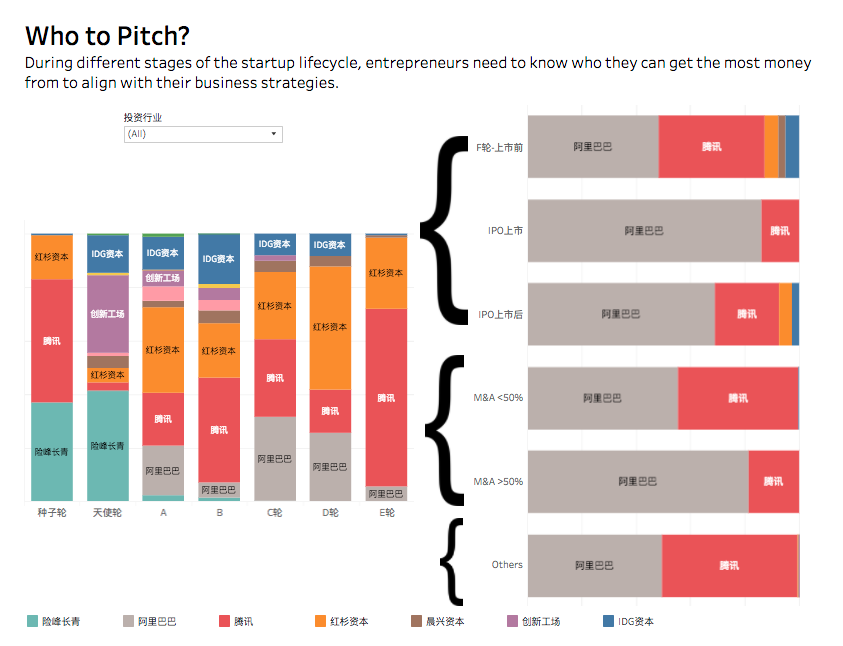

This screenshot's page, from the dashboard's own definition file:
{"tool":"tableau","page":{"name":"Who to go","canvas":[1000,800],"ordinal":6},"visuals":[{"type":"text","box":[0,0,1000,122]},{"type":"blank","box":[0,122,500.5,144]},{"type":"image","param":"Image/2000px-Curly_bracket_left.svg.png","box":[500.5,122,51.3,262.4]},{"type":"worksheet","title":"Sheet 30","mark":"Automatic","cols":["投资金额"],"box":[551.8,122,444.2,635]},{"type":"filter","title":"Sheet 29","param":"[federated.0ub7l0q00anu83163d9jd0t0r5fl].[none:投资行业:nk]","box":[132,135,200,67]},{"type":"image","param":"Image/2000px-Curly_bracket_left.svg 1.png","box":[503,164,60,239]},{"type":"worksheet","title":"Sheet 29","mark":"Automatic","box":[0,266,500.5,380.8]},{"type":"image","param":"Image/2000px-Curly_bracket_left.svg.png","box":[500.5,384.4,51.3,372.6]},{"type":"image","param":"Image/2000px-Curly_bracket_left.svg 1.png","box":[509,439,48,200]},{"type":"image","param":"Image/2000px-Curly_bracket_left.svg 1.png","box":[528,643,49,109]},{"type":"blank","box":[0,646.8,500.5,110.2]},{"type":"legend","title":"Sheet 30","param":"[federated.0ub7l0q00anu83163d9jd0t0r5fl].[none:机构名称:nk]","box":[0,757,1000,43]}]}

Visuals, with their boxes on the page's 1000x800 design canvas (x1, y1, x2, y2). These are canvas units, not pixel positions in the 843x646 screenshot, which may show the page scaled, cropped or inside an application window:
text: box(0, 0, 1000, 122)
blank: box(0, 122, 500, 266)
image: box(500, 122, 552, 384)
"Sheet 30" worksheet: box(552, 122, 996, 757)
"Sheet 29" filter: box(132, 135, 332, 202)
image: box(503, 164, 563, 403)
"Sheet 29" worksheet: box(0, 266, 500, 647)
image: box(500, 384, 552, 757)
image: box(509, 439, 557, 639)
image: box(528, 643, 577, 752)
blank: box(0, 647, 500, 757)
"Sheet 30" legend: box(0, 757, 1000, 800)
